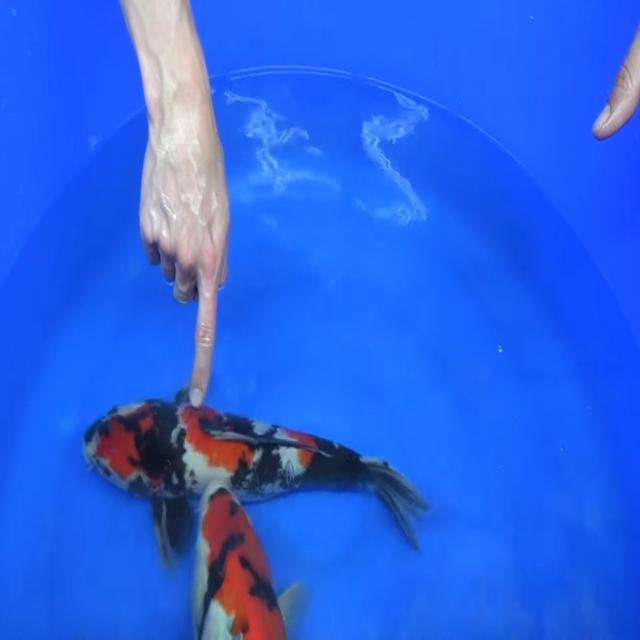Showa: (82, 384, 429, 557), (189, 479, 306, 638)
